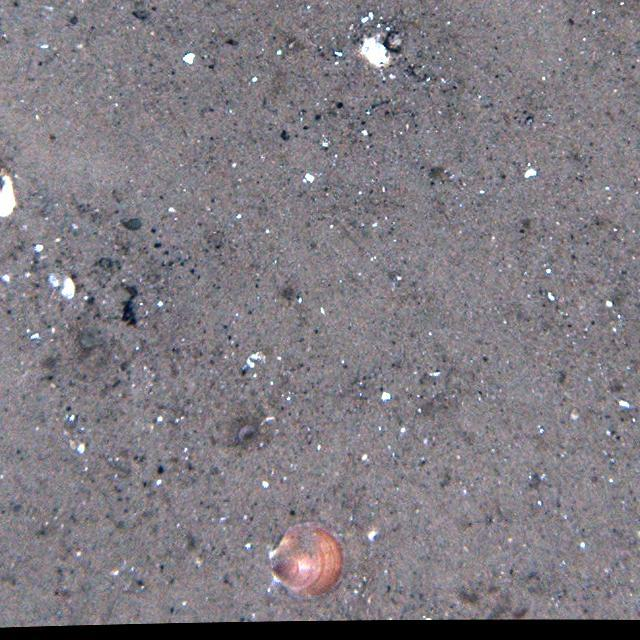scallop: (270, 519, 346, 604)
